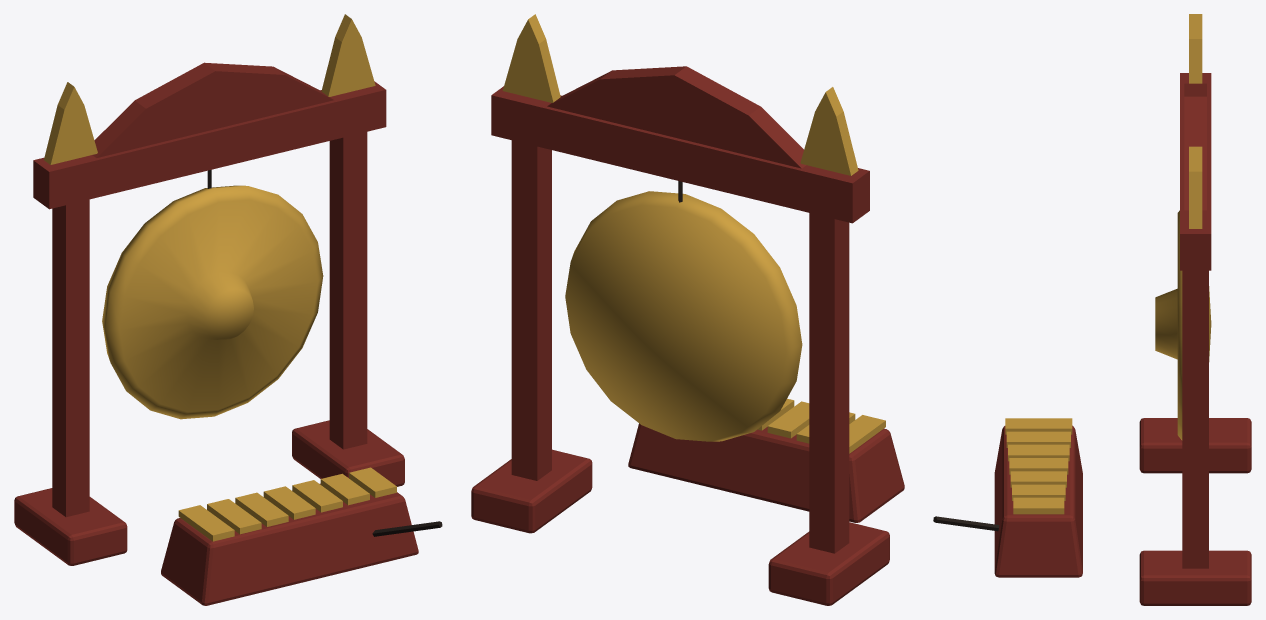
The model's file is gamelan.glb.
3 views of the same model, side by side, from view 1: azimuth 30°, elevation 25°; view 2: azimuth 150°, elevation 25°; view 3: azimuth 270°, elevation 25° (orthographic). The views are drawn at different scales.
Parts seen in each view (by area): view 1: gamelan_mesh; view 2: gamelan_mesh; view 3: gamelan_mesh.
Boxes of the visible parts, x1,y1,x2,y2 form: gamelan_mesh: [14, 14, 442, 605]; gamelan_mesh: [471, 14, 904, 605]; gamelan_mesh: [933, 14, 1251, 605].
Bounding box in the file's own units: 1.7 × 2.2 × 1.42.
